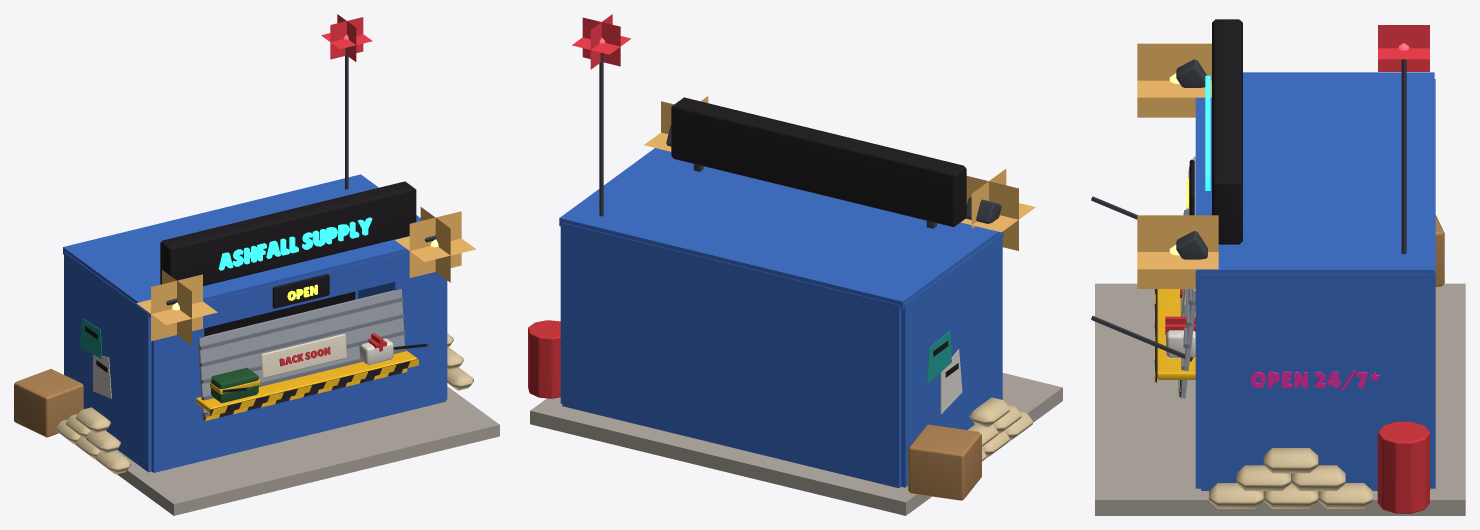
The model's file is city_station.glb.
The picture shows the model from 3 angles, left to right: view 1: azimuth 30°, elevation 25°; view 2: azimuth 150°, elevation 25°; view 3: azimuth 270°, elevation 25°; orthographic projection. The views are drawn at different scales.
Visible parts, largest first — view 1: Station, Shutter, ClosedSign, OpenDressing; view 2: Station; view 3: Station, OpenDressing, Shutter.
Boxes of the visible parts, x1,y1,x2,y2 form: Station: [14, 14, 499, 515]; Shutter: [198, 289, 407, 421]; ClosedSign: [261, 334, 346, 378]; OpenDressing: [222, 274, 429, 392]; Station: [528, 14, 1062, 515]; Station: [1095, 19, 1465, 515]; OpenDressing: [1091, 159, 1194, 361]; Shutter: [1178, 156, 1195, 398].
Bounding box in the file's own units: 6.85 × 5.81 × 4.24.
